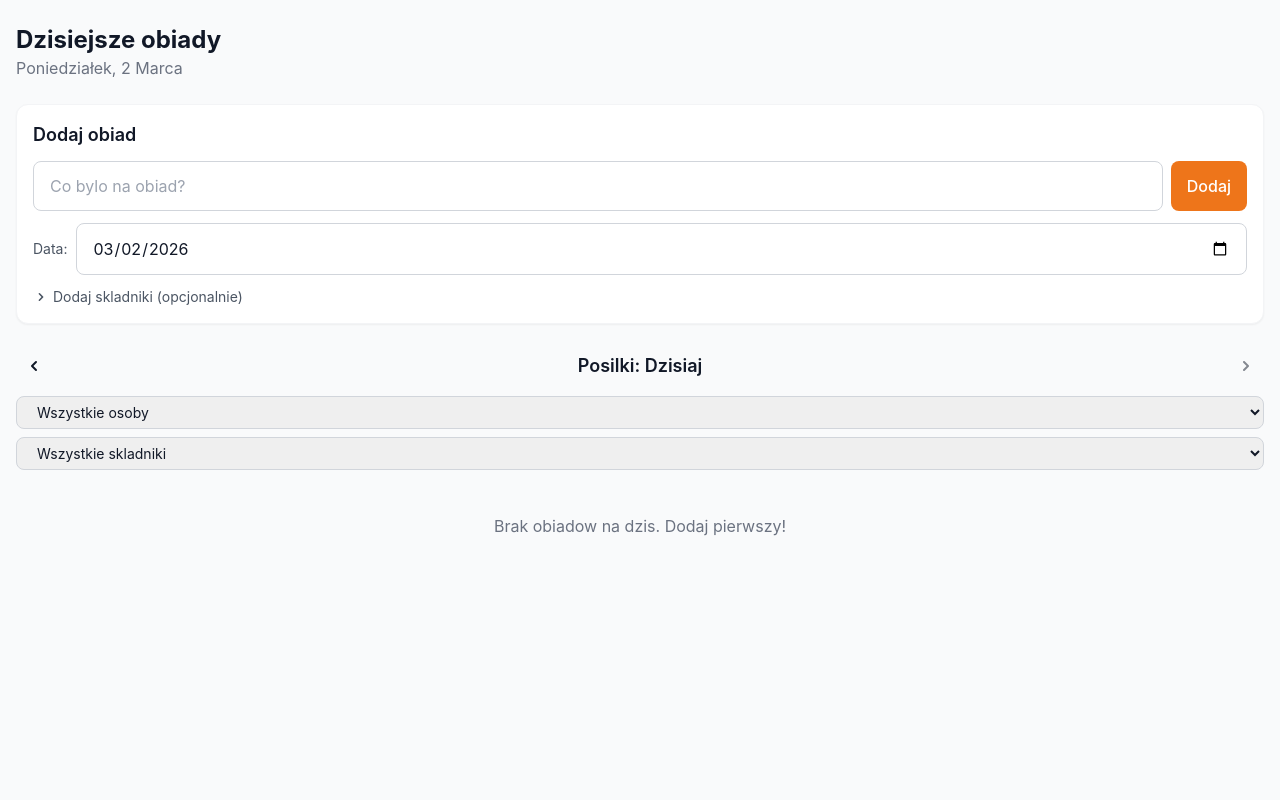
Test case: HomePage › with family members › shows dislike button for each family member
This screenshot has width=1280, height=800.
Type "Ryba" into the dropdown with placeholder "Co bylo na obiad?" at (598, 186), box [33,161,1163,211]
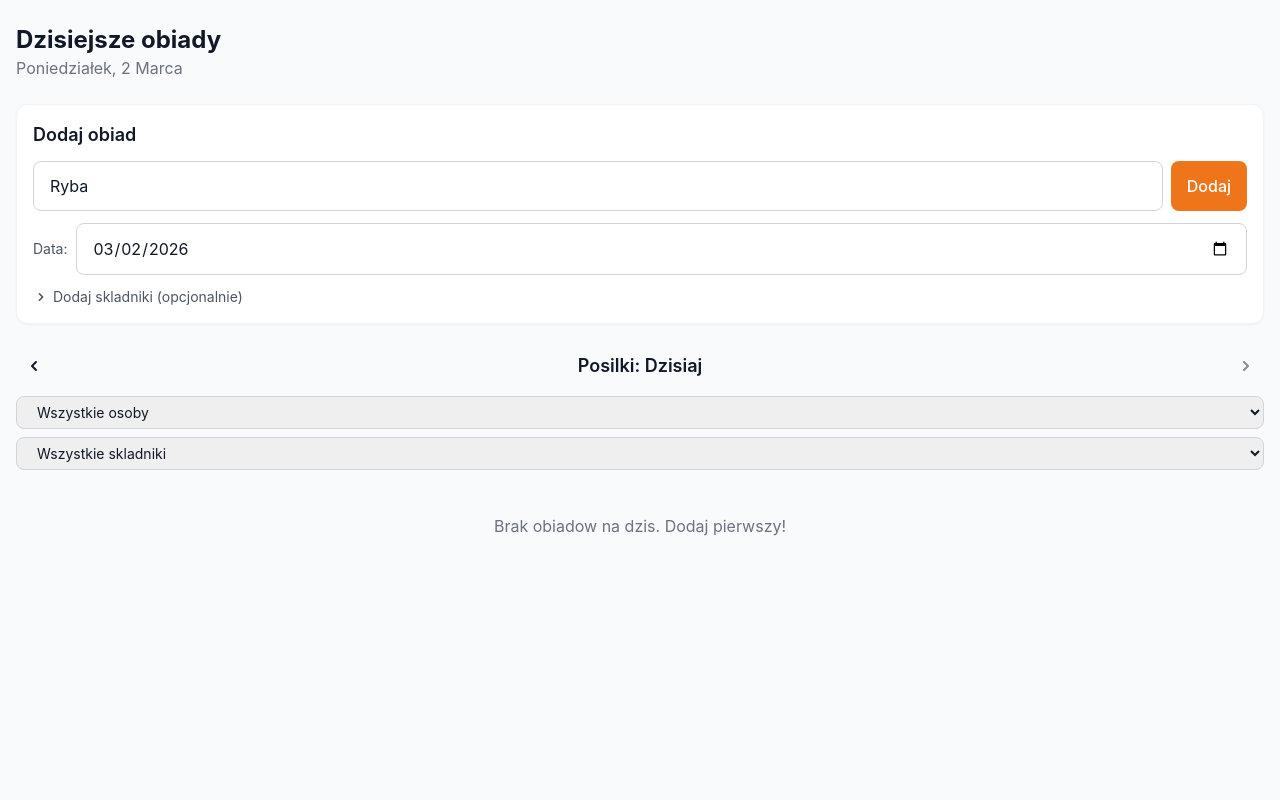
Click the button with aria-label "dodaj obiad" at (1209, 186), box [1171,161,1247,211]
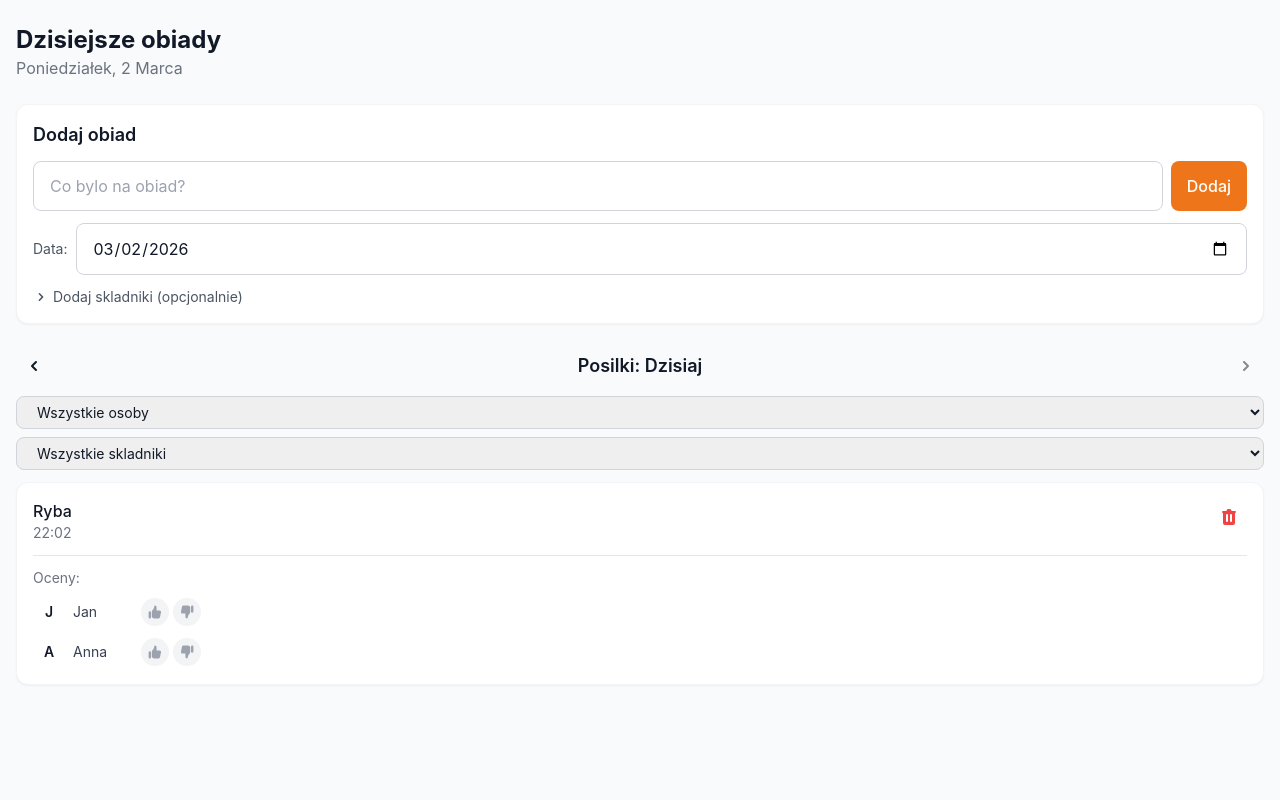
expect the text "Ryba" is shown: met, box [33,499,72,523]
expect the button named "Jan nie lubi Ryba" is shown: met, box [173,598,201,626]
expect the button named "Anna nie lubi Ryba" is shown: met, box [173,638,201,666]
